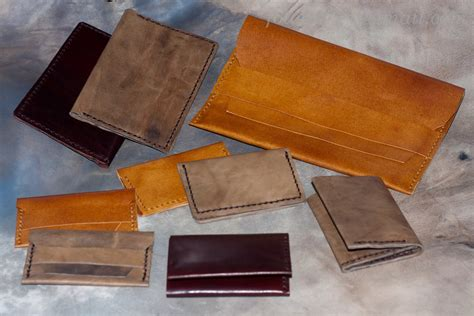cuero: (165, 232, 294, 298)
